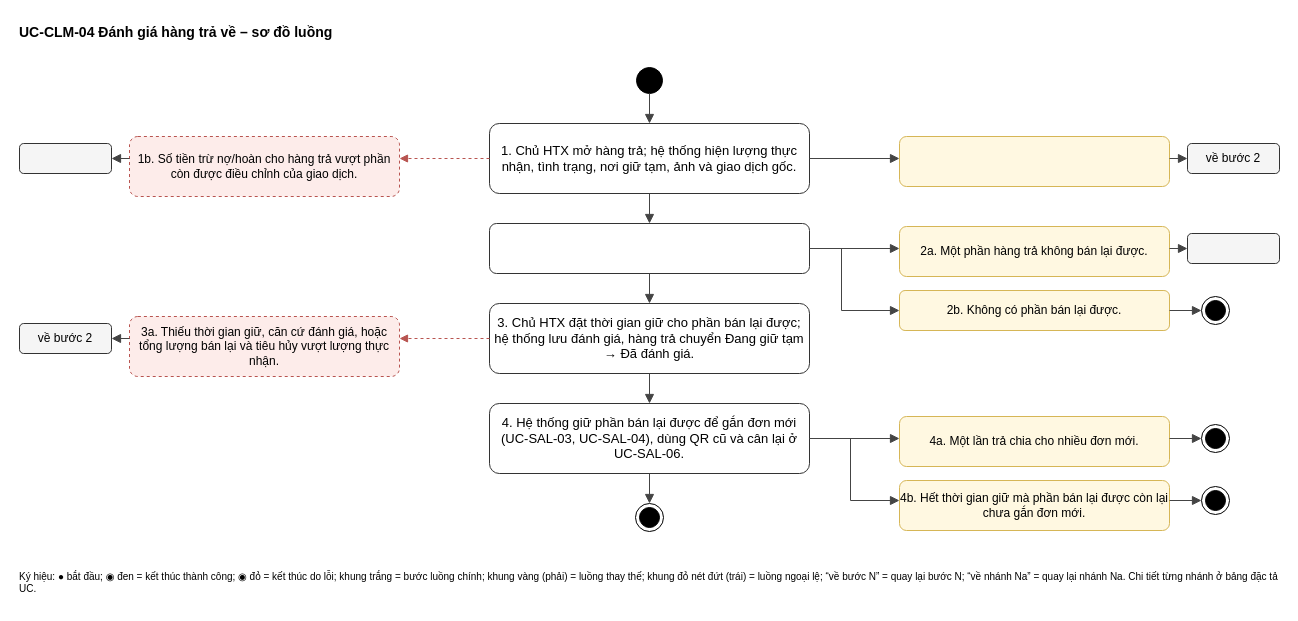
Image size: 1298x621. Some labels were removed from this diagram. The centre of each missing label's shape, as x and y in pixels:
"1a. Chủ HTX quyết định trừ nợ hoặc hoàn tiền cho hàng trả." belongs at point (1034, 161).
"2. Chủ HTX đánh giá lượng có thể bán lại và lượng không bán lại được kèm căn cứ." belongs at point (649, 248).
"về bước 3" belongs at point (1233, 248).
"về nhánh 1a" belongs at point (65, 158).
